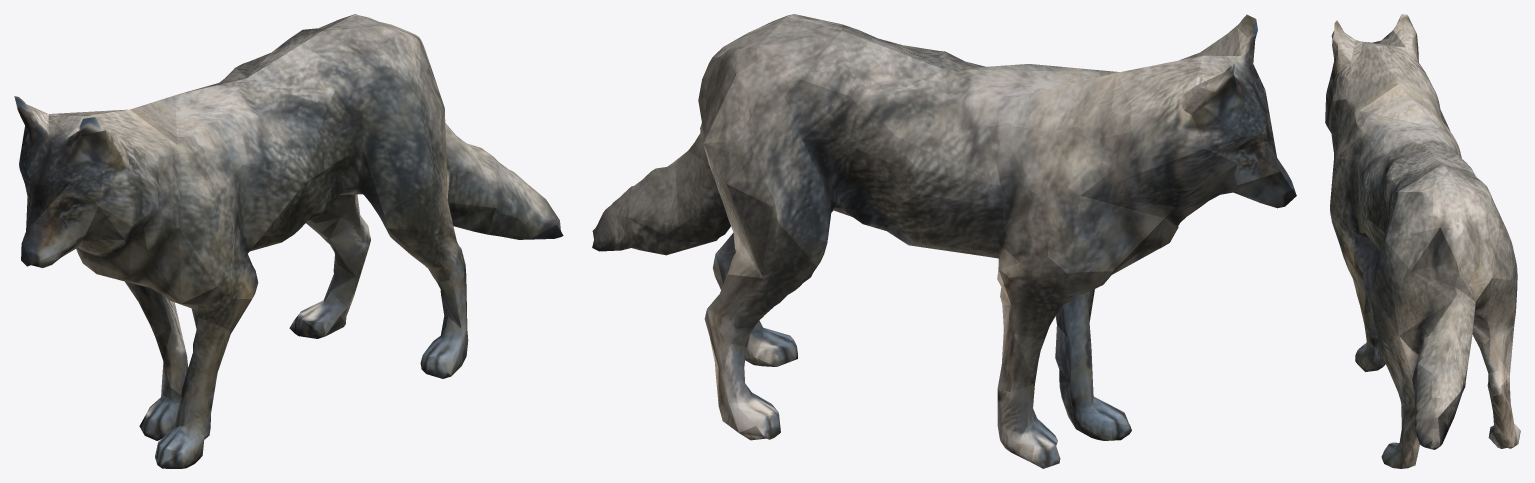
The model's file is wolf.fbx.
The picture shows the model from 3 angles, left to right: view 1: azimuth 30°, elevation 25°; view 2: azimuth 150°, elevation 25°; view 3: azimuth 270°, elevation 25°; orthographic projection. The views are drawn at different scales.
Visible parts, largest first — view 1: Wolf; view 2: Wolf; view 3: Wolf.
Part boxes in pixels (x1,y1,x2,y2): Wolf: [14, 14, 563, 468]; Wolf: [592, 14, 1296, 468]; Wolf: [1325, 14, 1520, 468].
Bounding box in the file's own units: 122 × 77.84 × 45.39.
Materials: 1 (1 with a texture image).
